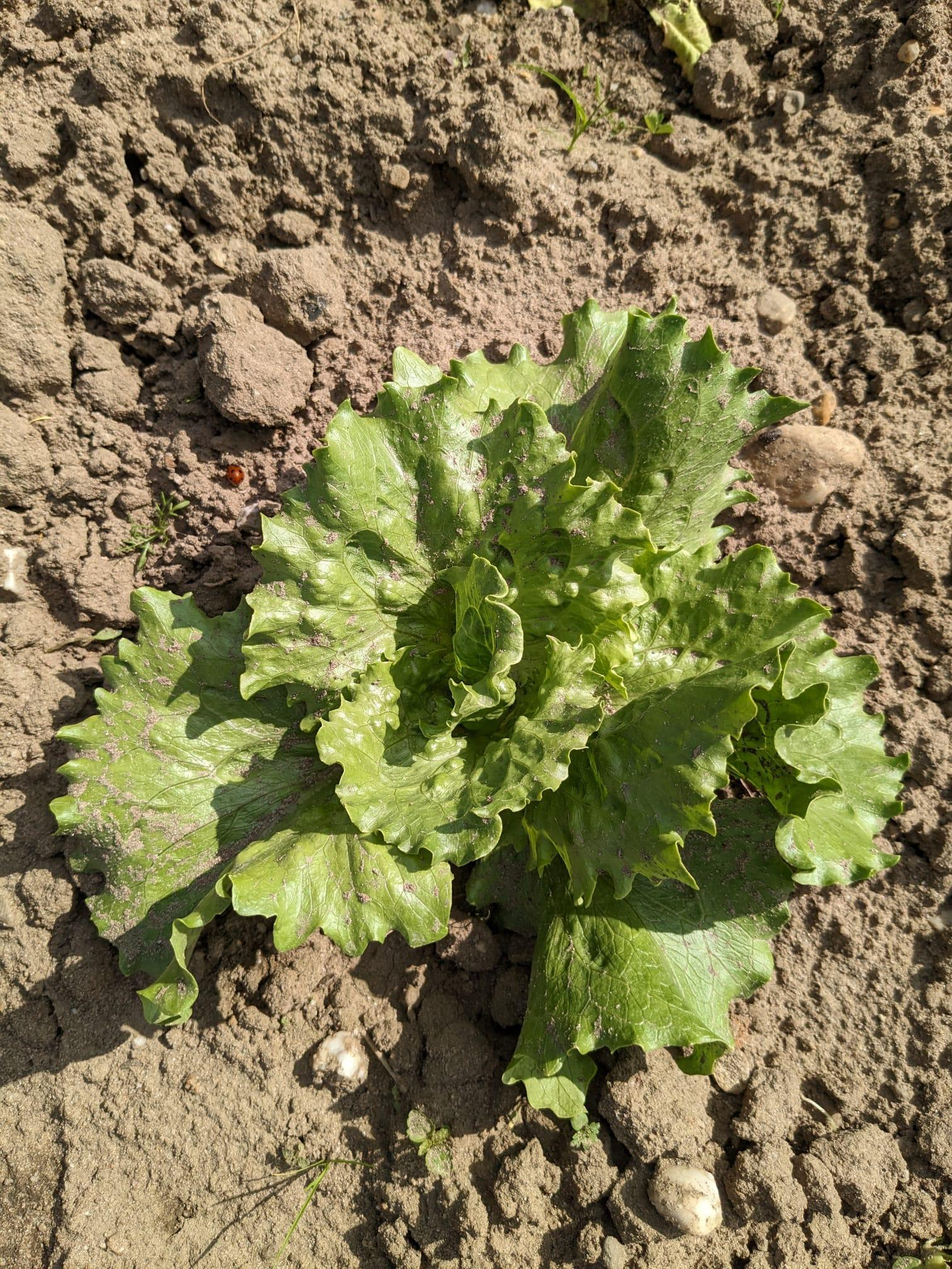Healthy: (51, 301, 906, 1134)
